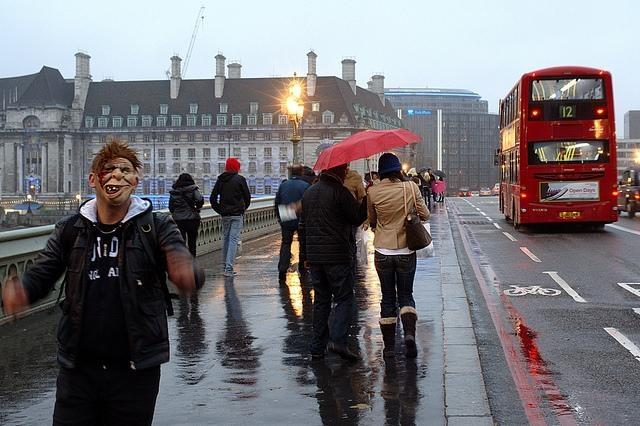bus: (499, 66, 618, 236)
car: (618, 166, 640, 218), (458, 186, 471, 198), (479, 188, 492, 196), (492, 183, 499, 196), (470, 190, 480, 196)
